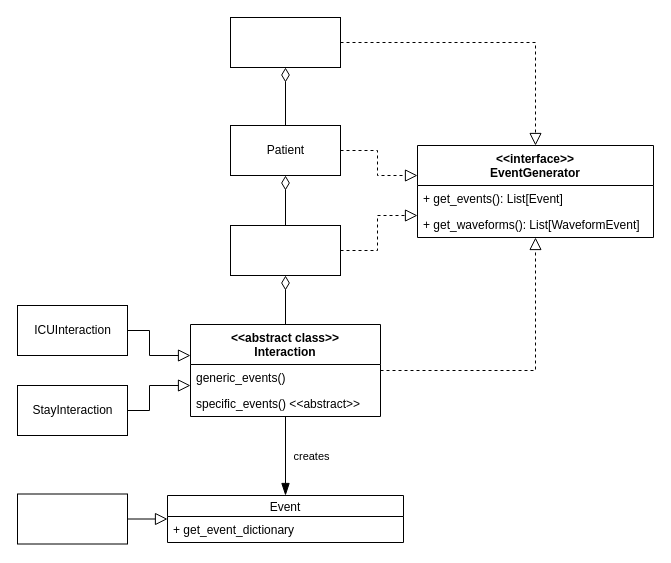
Image size: 671x563. Some labels were removed from this diagram. Here are the shapes that lost their labels. From the top down, the box of each, then its label:
(230, 16, 340, 68): Hospital
(230, 224, 340, 276): Admission
(16, 493, 128, 544): WaveformEvent
